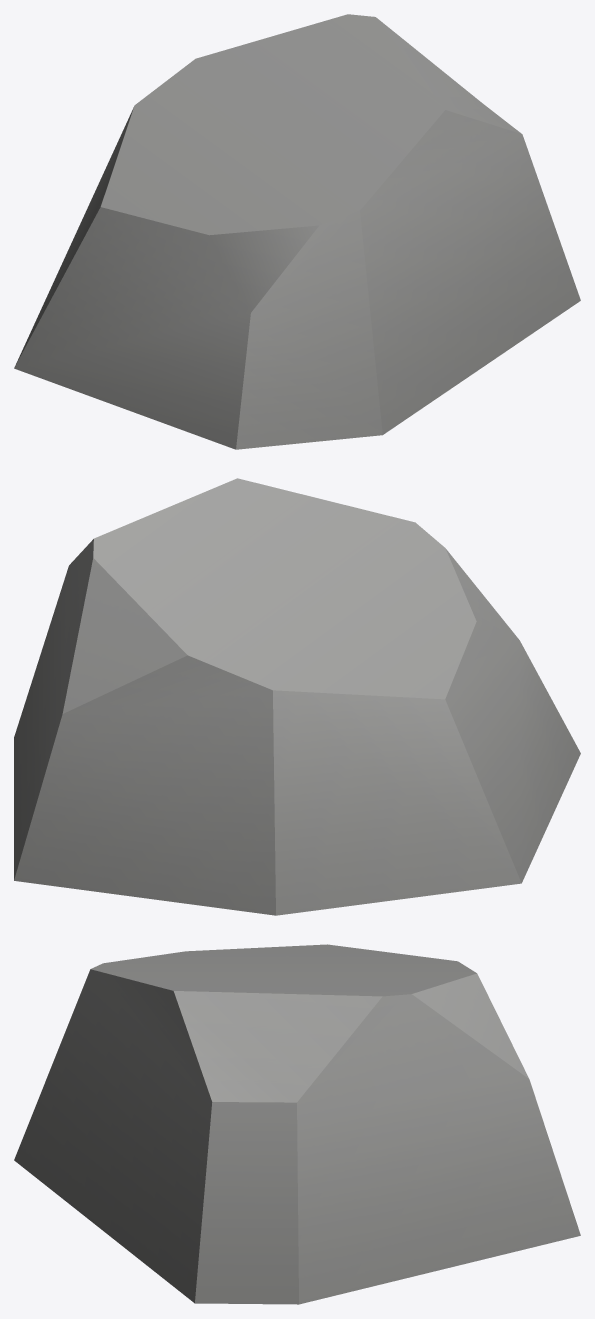
The model's file is Cavern_RockSml-03.fbx.
3 views of the same model, one above another, from view 1: azimuth 30°, elevation 25°; view 2: azimuth 150°, elevation 25°; view 3: azimuth 270°, elevation 25° (orthographic). The views are drawn at different scales.
Parts seen in each view (by area): view 1: Cavern_RockSml-03; view 2: Cavern_RockSml-03; view 3: Cavern_RockSml-03.
Boxes of the visible parts, <box> form: Cavern_RockSml-03: <box>14,14,580,449</box>; Cavern_RockSml-03: <box>14,478,580,915</box>; Cavern_RockSml-03: <box>14,944,580,1304</box>.
Size of the model in its own units: 73.77 by 34.67 by 71.19.
Materials: 1 (1 with a texture image).
